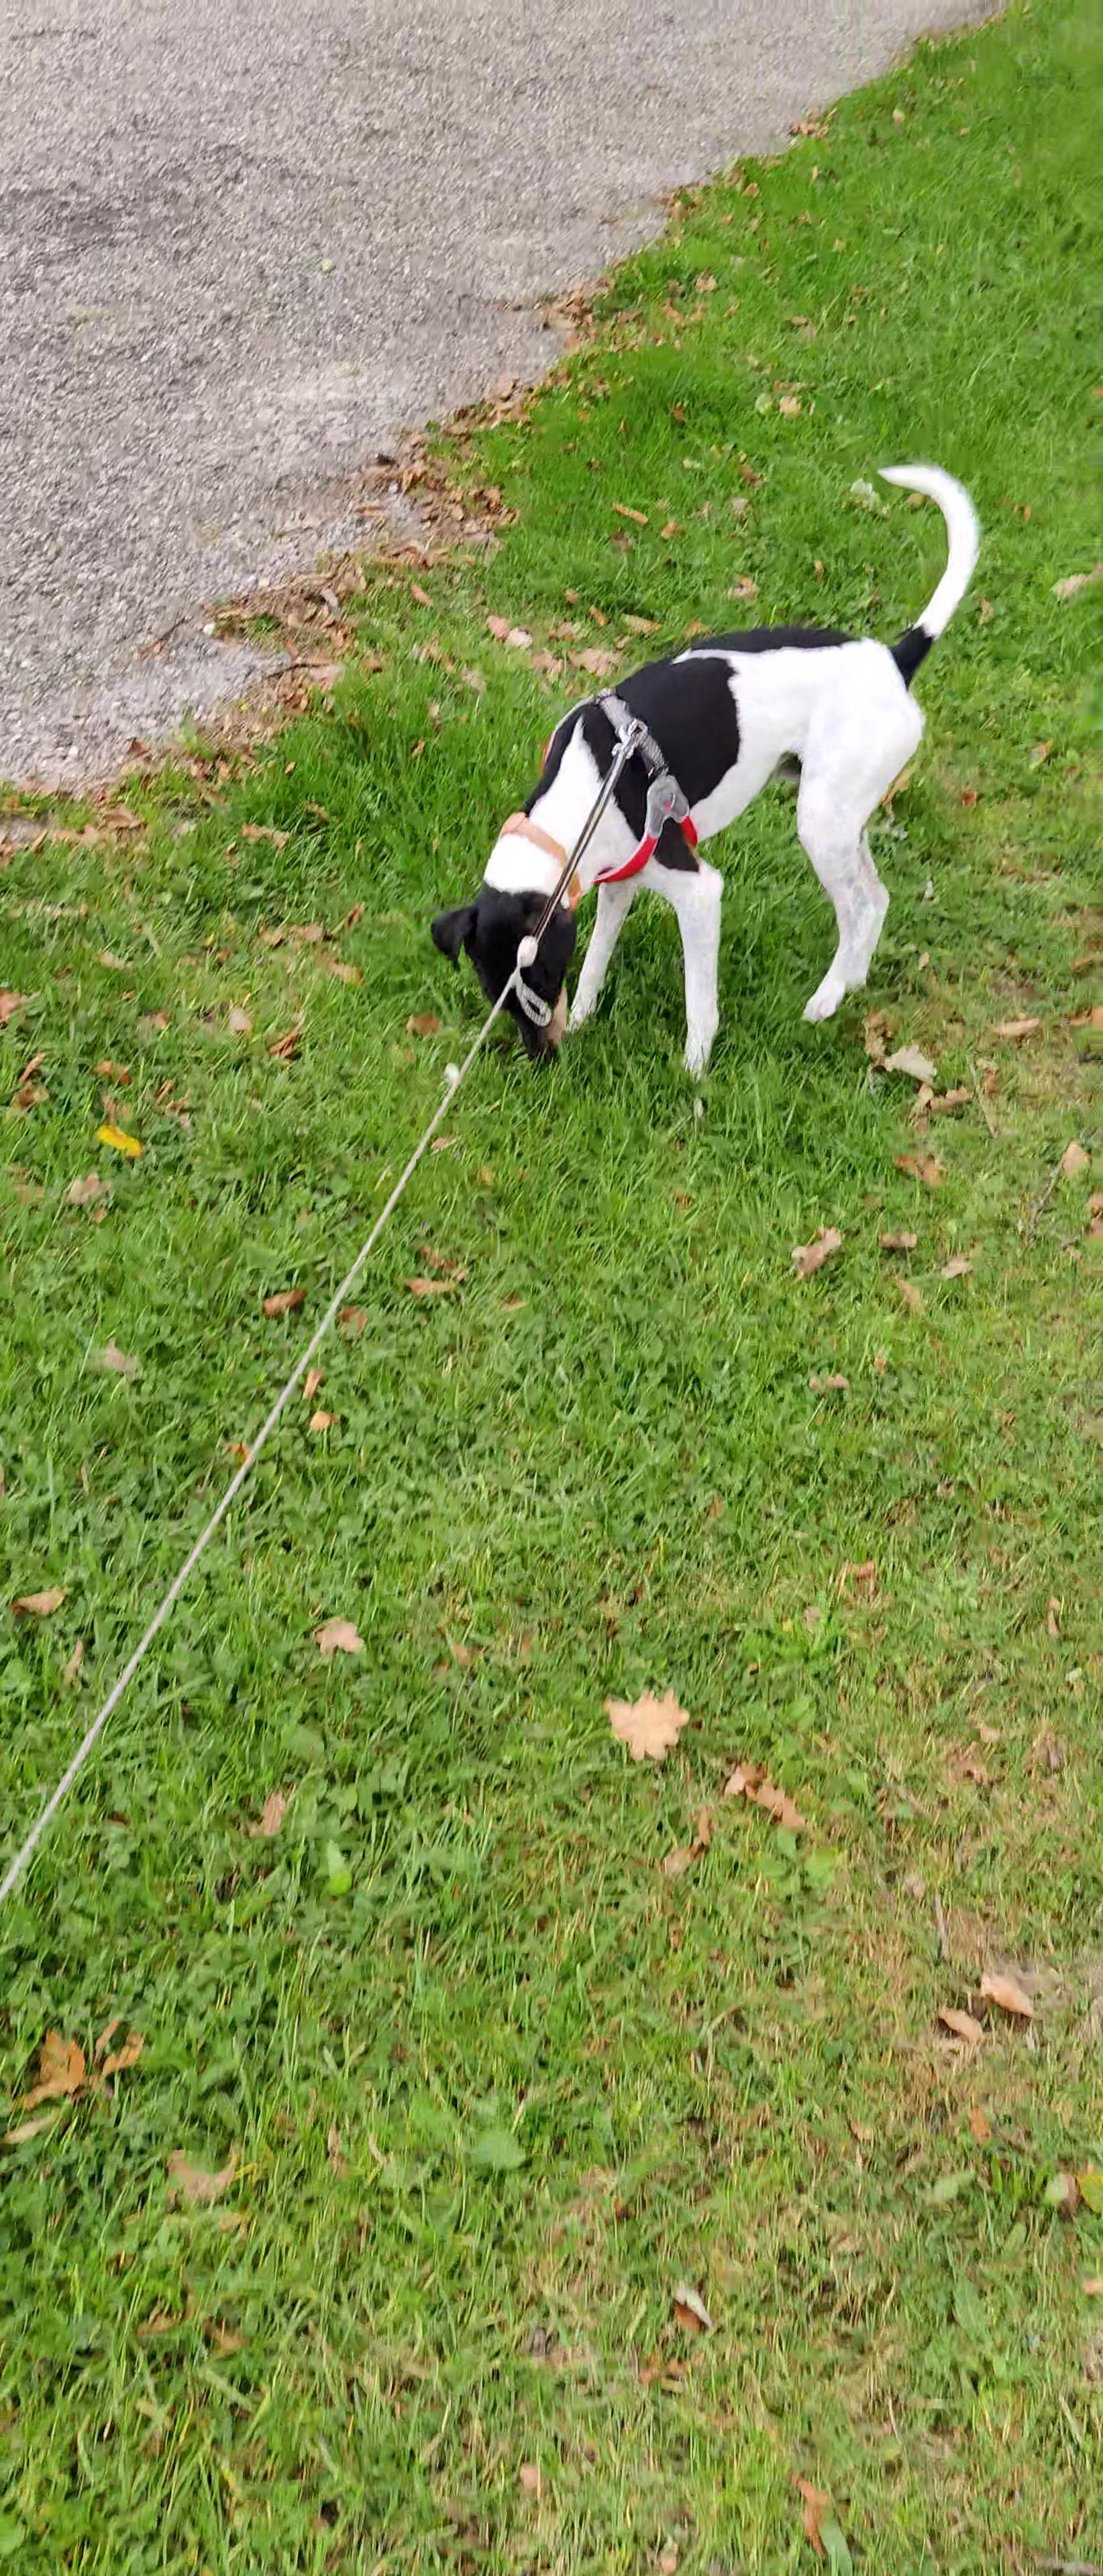Dog: (427, 457, 980, 1076)
